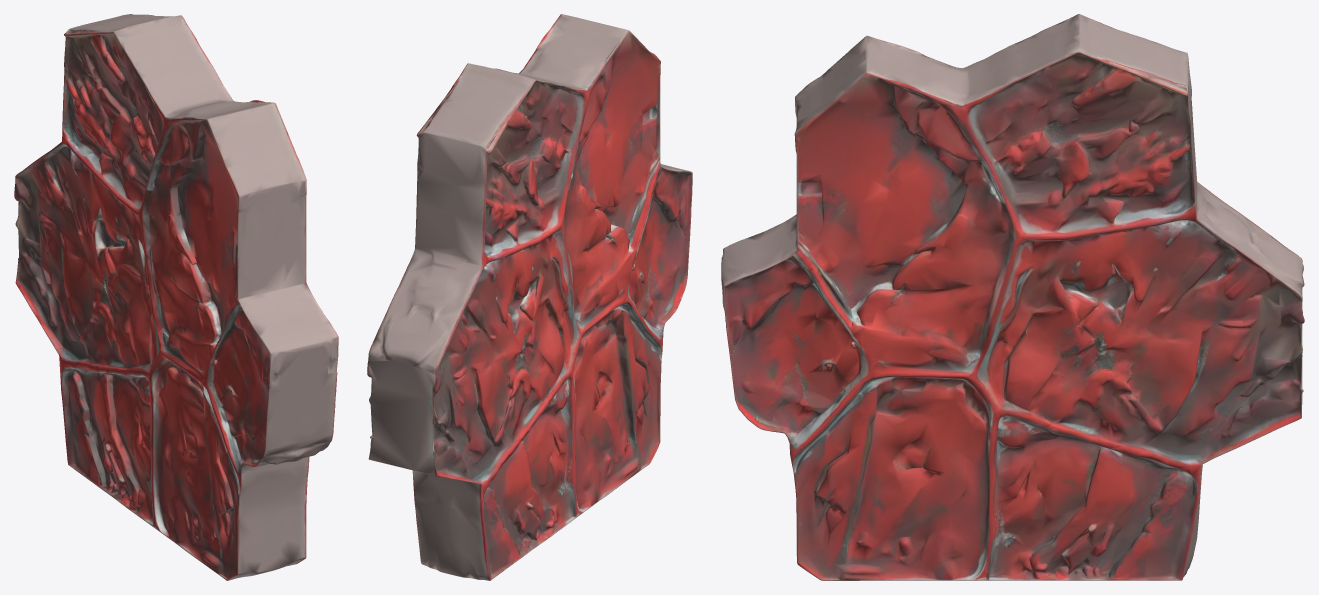
Rendered from flag-red.glb.
The picture shows the model from 3 angles, left to right: view 1: azimuth 30°, elevation 25°; view 2: azimuth 150°, elevation 25°; view 3: azimuth 270°, elevation 25°; orthographic projection. The views are drawn at different scales.
Visible parts, largest first — view 1: tripo_node_dfbdc8c6-ee76-43c5-a1bc-deebe0797762; view 2: tripo_node_dfbdc8c6-ee76-43c5-a1bc-deebe0797762; view 3: tripo_node_dfbdc8c6-ee76-43c5-a1bc-deebe0797762.
Boxes of the visible parts, x1=… form: tripo_node_dfbdc8c6-ee76-43c5-a1bc-deebe0797762: x1=14, y1=14, x2=338, y2=580; tripo_node_dfbdc8c6-ee76-43c5-a1bc-deebe0797762: x1=367, y1=14, x2=692, y2=580; tripo_node_dfbdc8c6-ee76-43c5-a1bc-deebe0797762: x1=721, y1=14, x2=1304, y2=580.
Bounding box in the file's own units: 0.1657 × 0.9997 × 0.9954.
1 material, 1 textured.
